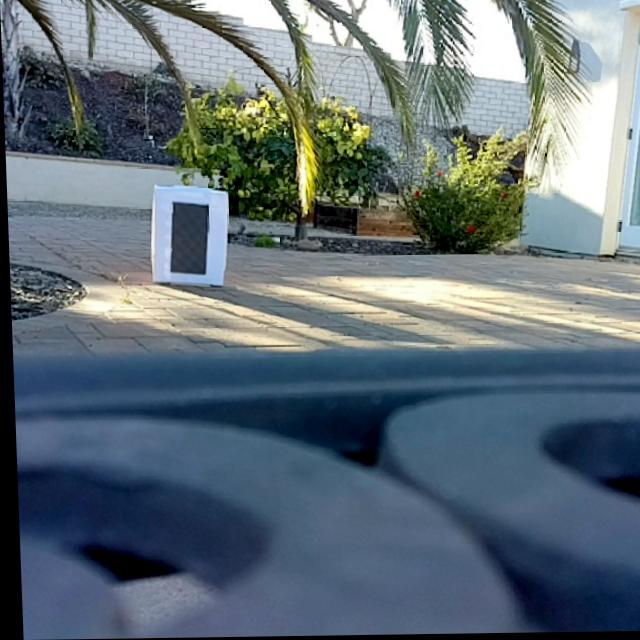led: (166, 201, 208, 276)
